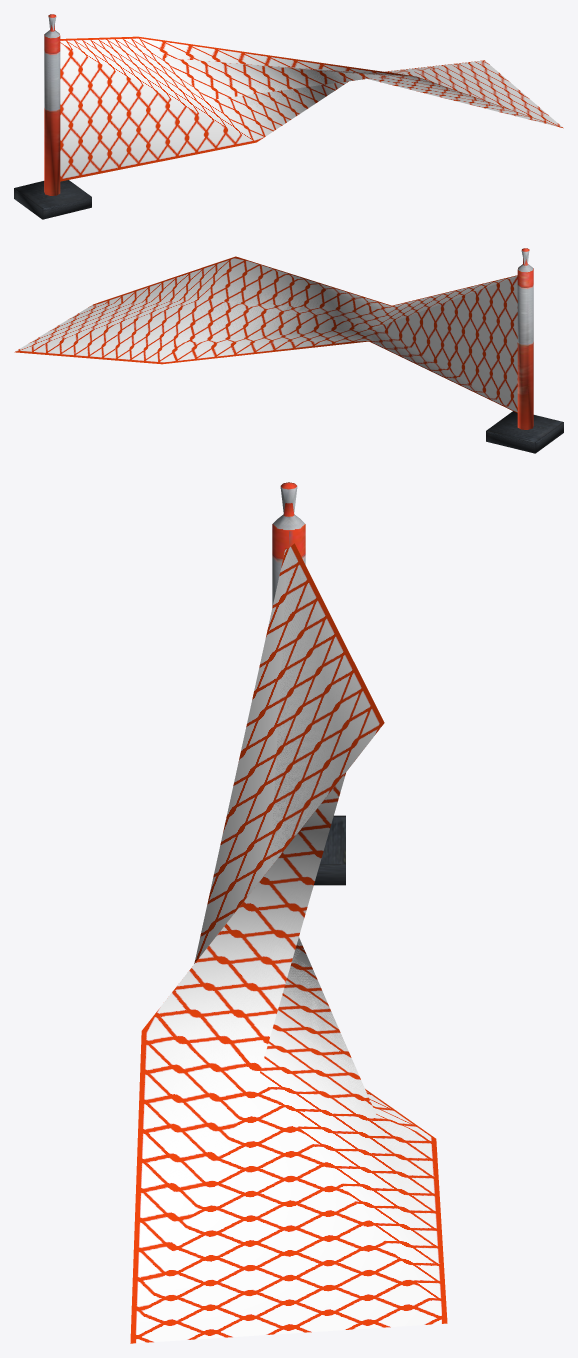
File: orangeFence_fallen_2.fbx
3 renders of one model, top to bottom at view 1: azimuth 30°, elevation 25°; view 2: azimuth 150°, elevation 25°; view 3: azimuth 270°, elevation 25°, orthographic. The views are drawn at different scales.
Visible parts, largest first — view 1: Plane, Duplicate00, Cylinder, Box; view 2: Plane, Duplicate00, Cylinder, Box; view 3: Plane, Duplicate00, Cylinder, Box.
Boxes of the visible parts, <box> form: Plane: <box>60,36,562,181</box>; Duplicate00: <box>61,37,560,140</box>; Cylinder: <box>44,14,60,195</box>; Box: <box>14,180,91,219</box>; Plane: <box>14,256,517,364</box>; Duplicate00: <box>23,257,517,412</box>; Cylinder: <box>517,248,533,429</box>; Box: <box>486,411,563,453</box>; Plane: <box>130,543,447,1343</box>; Duplicate00: <box>131,545,446,1338</box>; Cylinder: <box>272,482,305,606</box>; Box: <box>314,815,345,885</box>.
Size of the model in its own units: 301 by 116 by 83.3.
